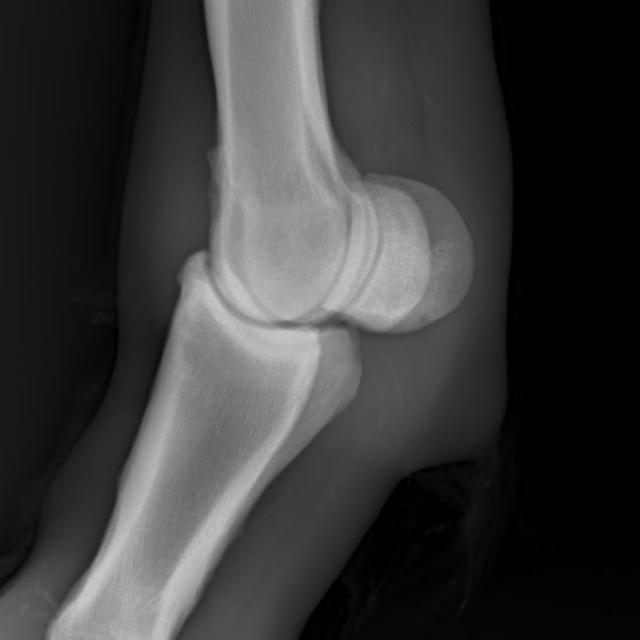bone remodeling: (193, 132, 237, 195), (177, 232, 216, 302)
